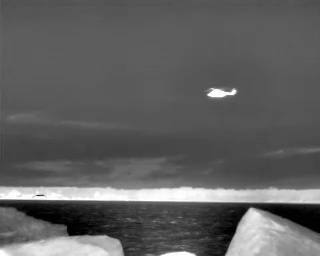HELICOPTER: (202, 82, 243, 104)
